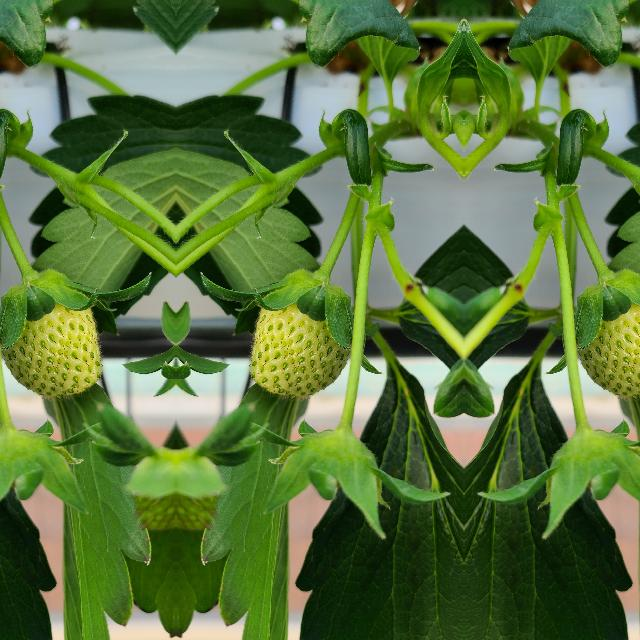Health_25: (246, 302, 350, 402), (0, 302, 104, 402), (576, 302, 640, 402)
